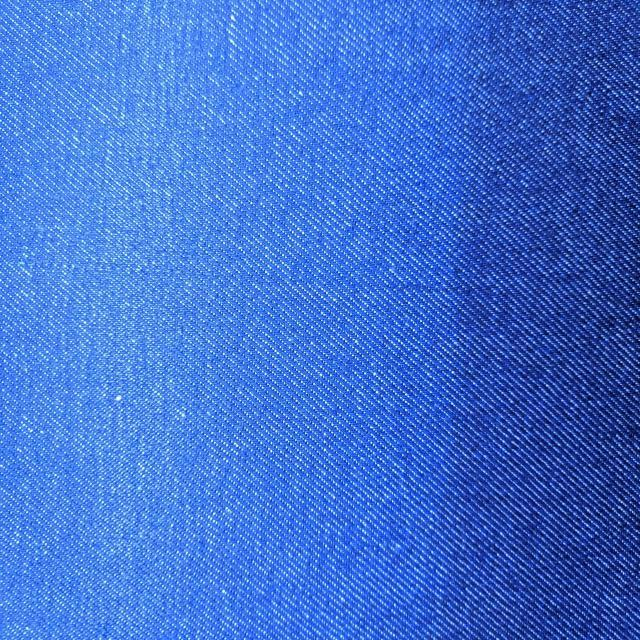Line: (25, 253, 527, 308)
